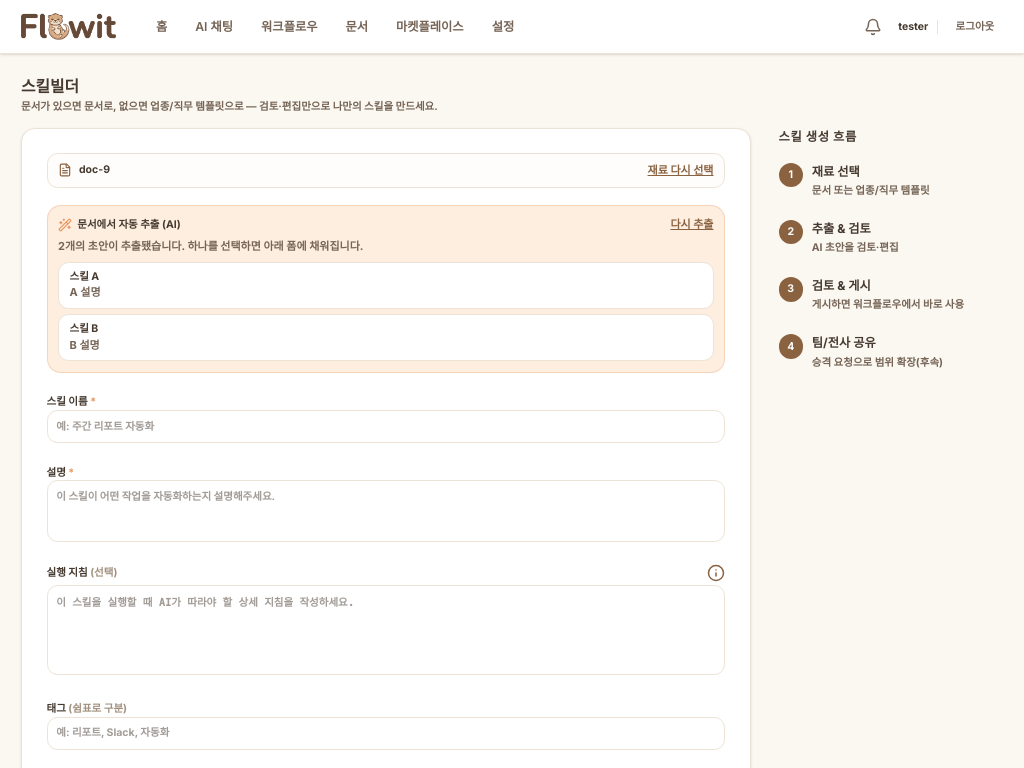
Test: 다건 메타: payload.skill_metas로 카드 노출 → 선택 시 extractSkillDetail로 detail 채움 (#353 계약)
This screenshot has width=1024, height=768.
expect the text "2개의 초안이 추출됐습니다. 하나를 선택하면 아래 폼에 채워집니다." is shown: met, box [58,239,363,253]
expect the text "스킬 A" is shown: met, box [70,270,99,284]
Click the text "스킬 B" at (84, 329), box [70,322,98,336]
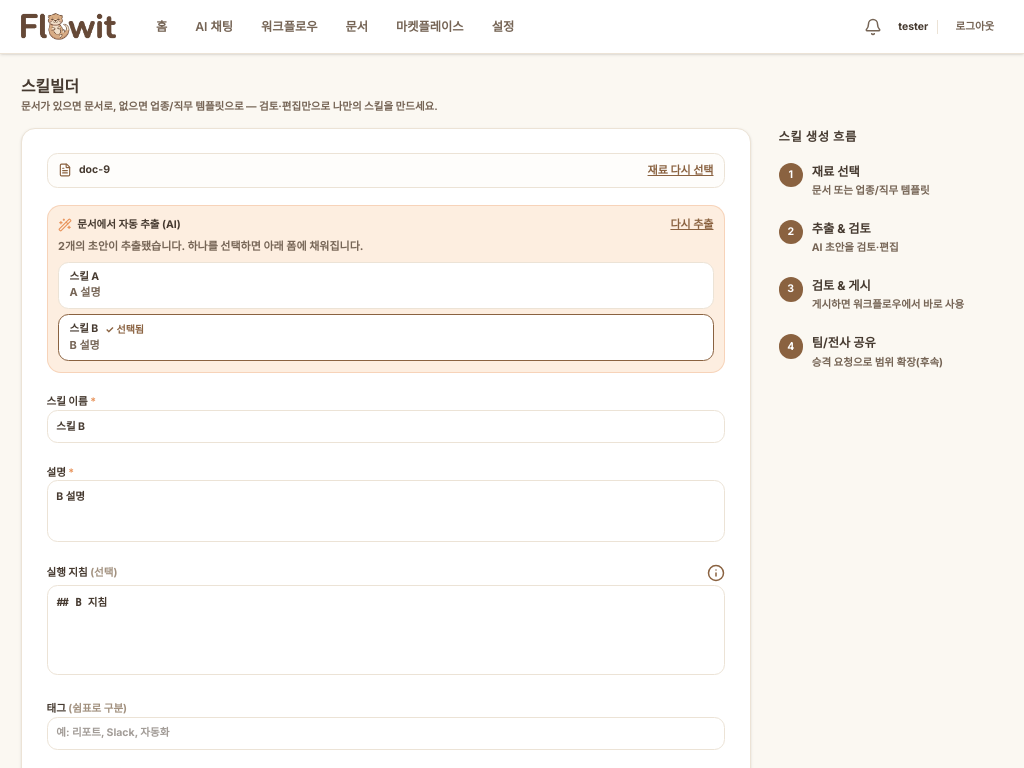
expect the field with placeholder "예: 주간 리포트 자동화" holds "스킬 B": met, box [46,410,725,443]
expect the text box showing "## B 지침" below "실행 지침" is shown: met, box [46,586,725,675]
